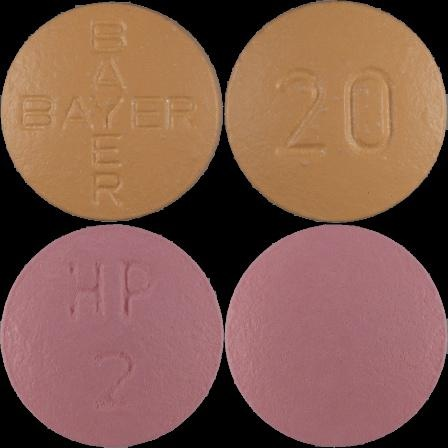43353-748: (0, 0, 224, 224)
